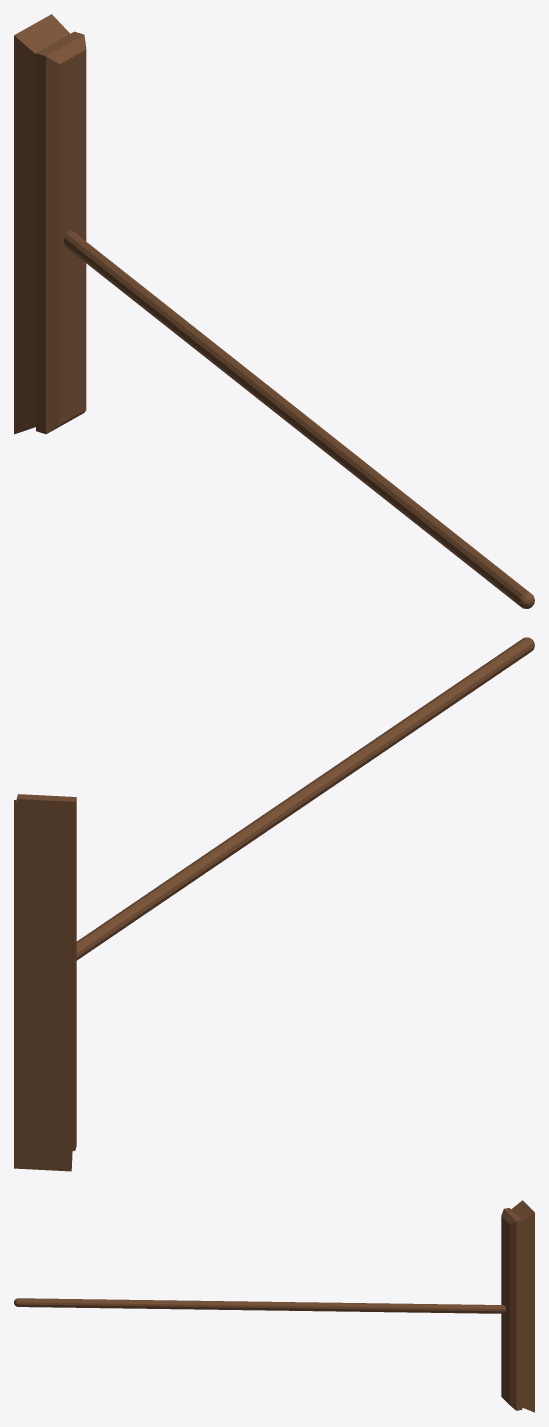
File: broom_holder_sweep_to_dustpan_broom_visual_vis_1.dae
3 renders of one model, top to bottom at view 1: azimuth 30°, elevation 25°; view 2: azimuth 150°, elevation 25°; view 3: azimuth 270°, elevation 25°, orthographic. The views are drawn at different scales.
Parts seen in each view (by area): view 1: node; view 2: node; view 3: node.
Boxes of the visible parts, bbox=[...] form: node: bbox=[14, 14, 534, 608]; node: bbox=[14, 637, 534, 1171]; node: bbox=[14, 1200, 534, 1412].
Size of the model in its own units: 0.0477 by 0.2828 by 0.6671.
